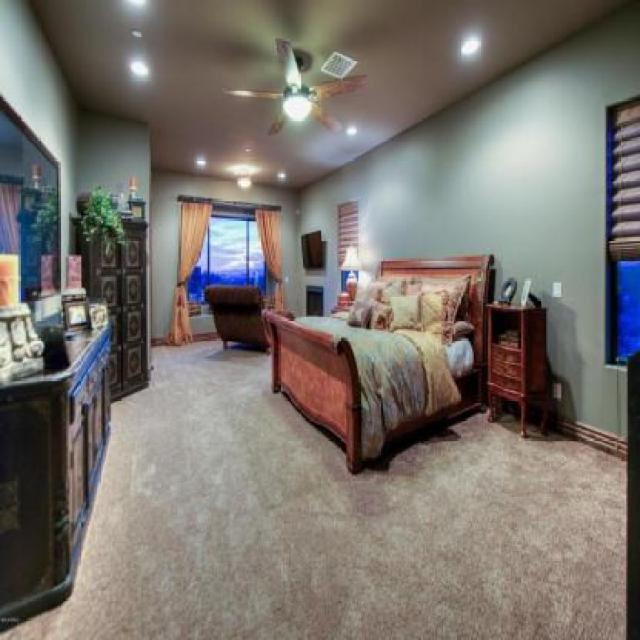Floor: (0, 338, 627, 639)
